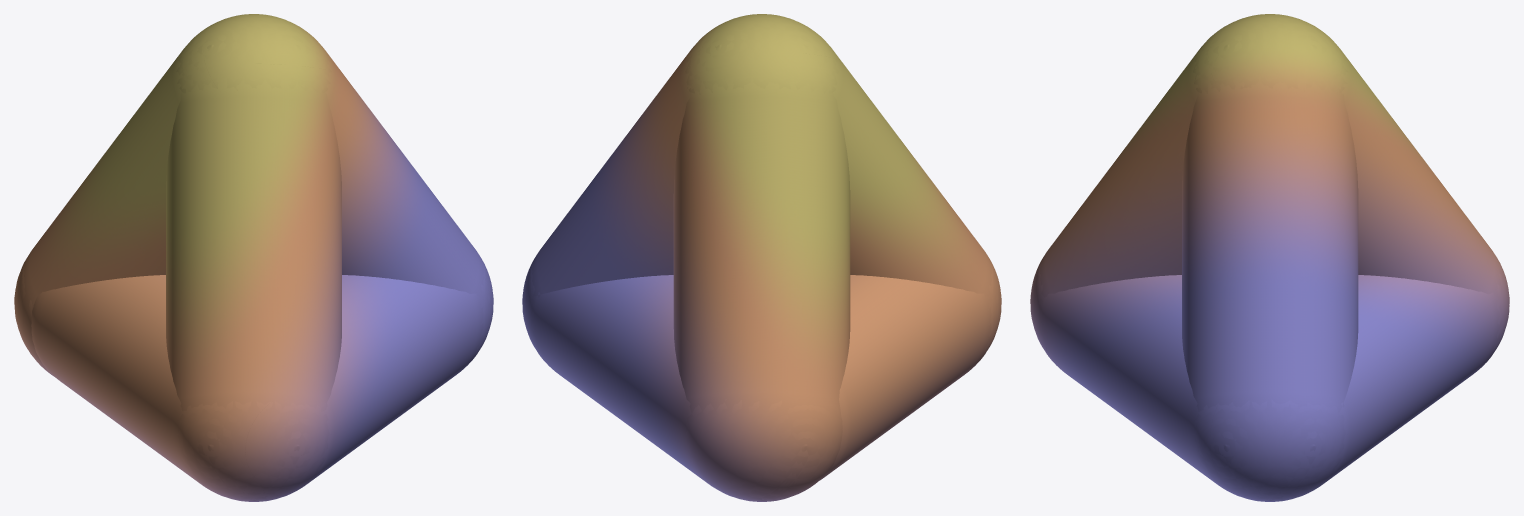
File: 09_pillowtri_static.glb
The picture shows the model from 3 angles, left to right: view 1: azimuth 30°, elevation 25°; view 2: azimuth 150°, elevation 25°; view 3: azimuth 270°, elevation 25°; orthographic projection.
Visible parts, largest first — view 1: 09_pillowtri.1; view 2: 09_pillowtri.1; view 3: 09_pillowtri.1.
Part boxes in pixels (bbox=[...]): 09_pillowtri.1: bbox=[14, 14, 493, 501]; 09_pillowtri.1: bbox=[522, 14, 1001, 501]; 09_pillowtri.1: bbox=[1030, 14, 1509, 501].
Size of the model in its own units: 0.1149 by 0.1149 by 0.1255.
Materials: 1 (1 with a texture image).
